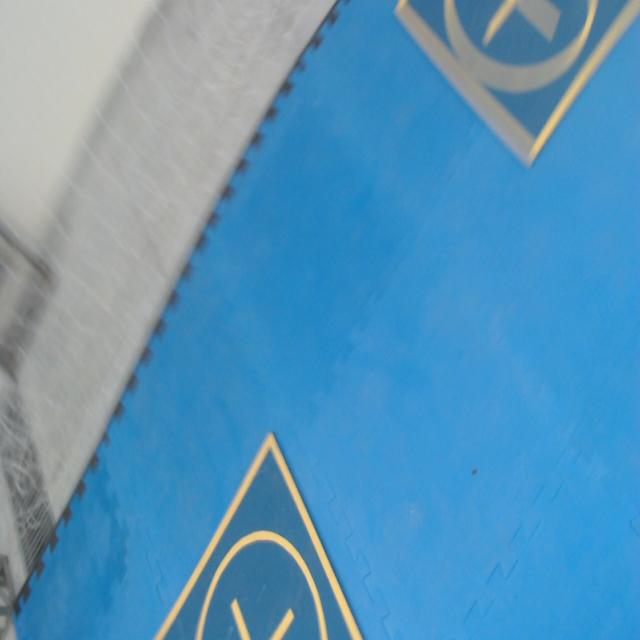base_pouso: (151, 428, 365, 639), (393, 0, 640, 168)
